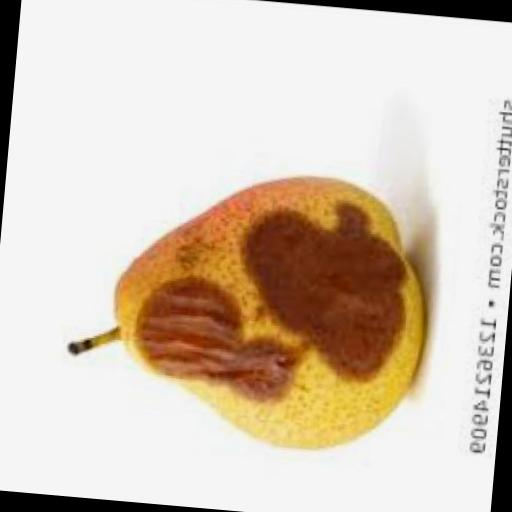biodegradable: (57, 150, 432, 458)
